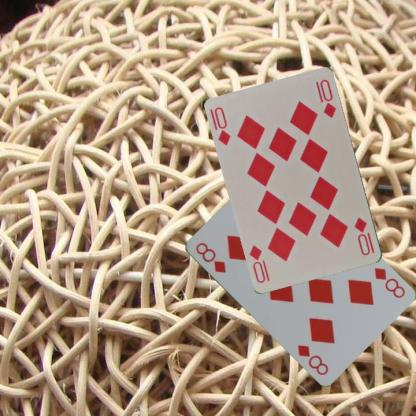10d: (352, 215, 376, 257), (212, 104, 232, 147)
8d: (371, 265, 406, 299), (193, 240, 227, 274)
